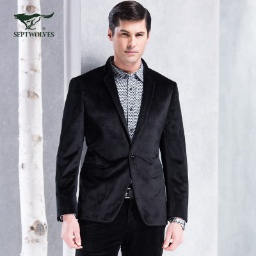face: (107, 1, 153, 64)
